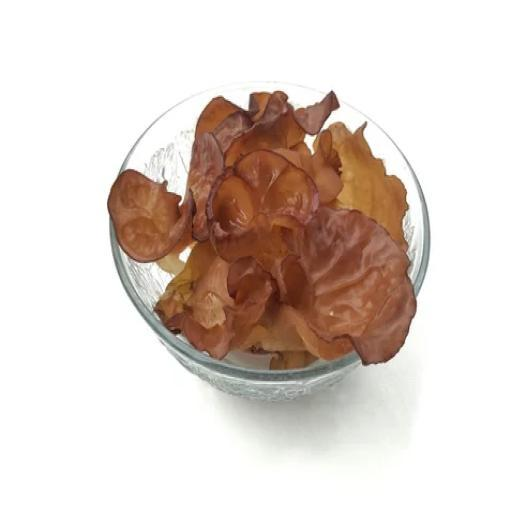mushroom: (162, 97, 436, 361), (107, 169, 195, 267)
